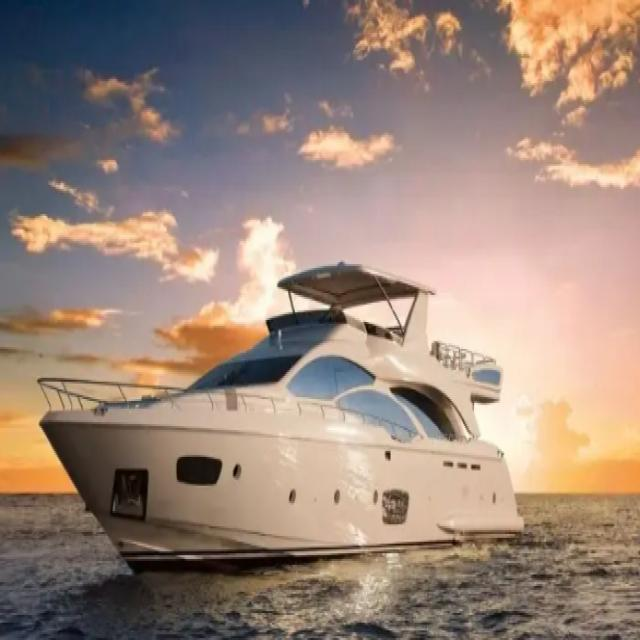houseboat: (38, 252, 534, 562)
